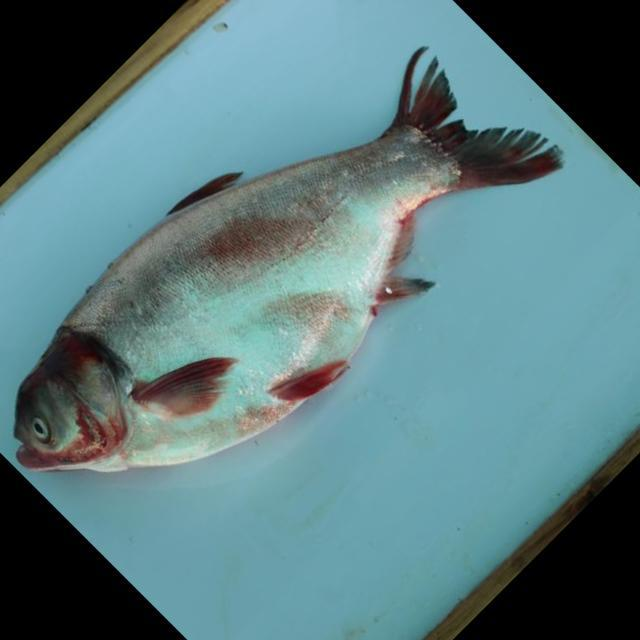SilverCarp: (15, 68, 640, 495)
